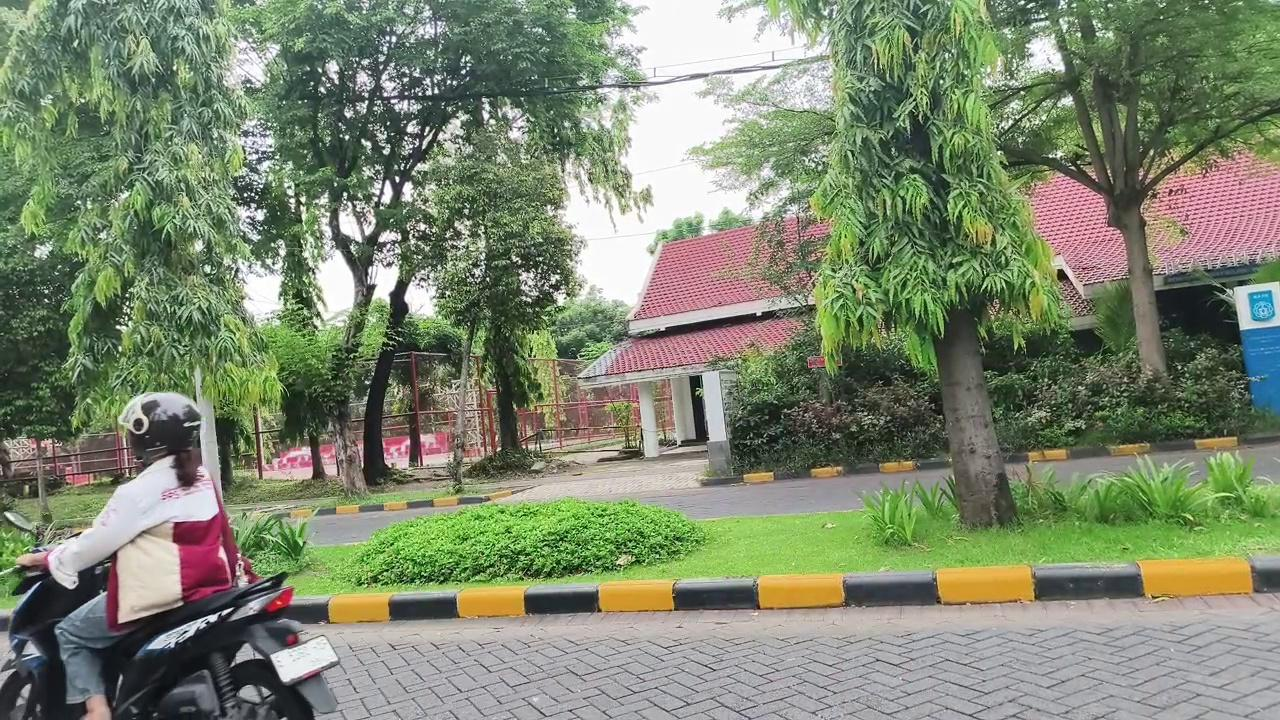Helmet: (17, 393, 252, 719)
Motor: (103, 575, 338, 719)
